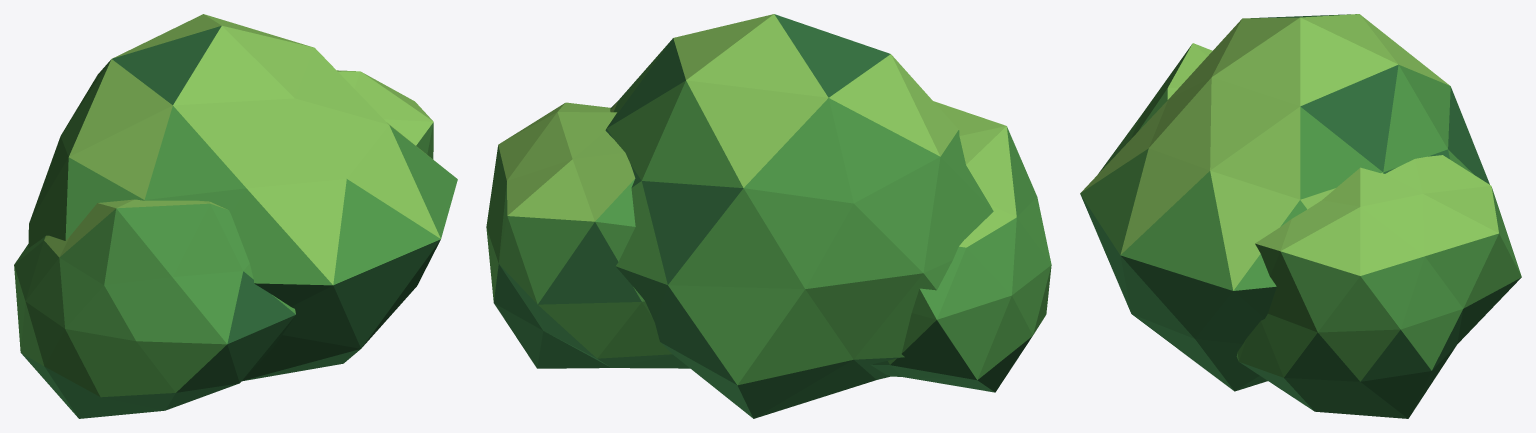
The model's file is bush_a.glb.
3 renders of one model, left to right at view 1: azimuth 30°, elevation 25°; view 2: azimuth 150°, elevation 25°; view 3: azimuth 270°, elevation 25°, orthographic. The views are drawn at different scales.
Visible parts, largest first — view 1: bush_a__mesh; view 2: bush_a__mesh; view 3: bush_a__mesh.
Boxes of the visible parts, box(x1,y1,x2,y2) form: bush_a__mesh: box(14, 14, 457, 418); bush_a__mesh: box(486, 14, 1051, 418); bush_a__mesh: box(1080, 14, 1521, 418).
Size of the model in its own units: 1.6 by 1.19 by 1.44.
Materials: 1 (1 with a texture image).
